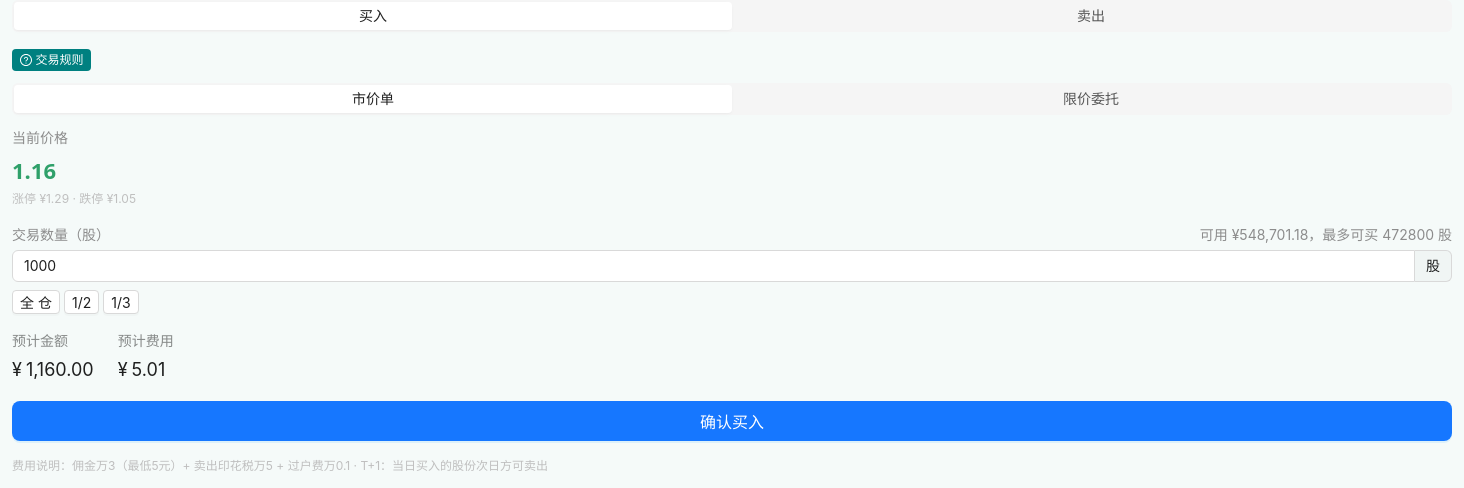
Test: F-31 资金不足提示（P0） › P0 服务端资金不足时展示需要/可用/差额，并纠正本地快照
Click the button with test id "trade-submit". click: (732, 421)
box: x1=12 y1=401 x2=1452 y2=441
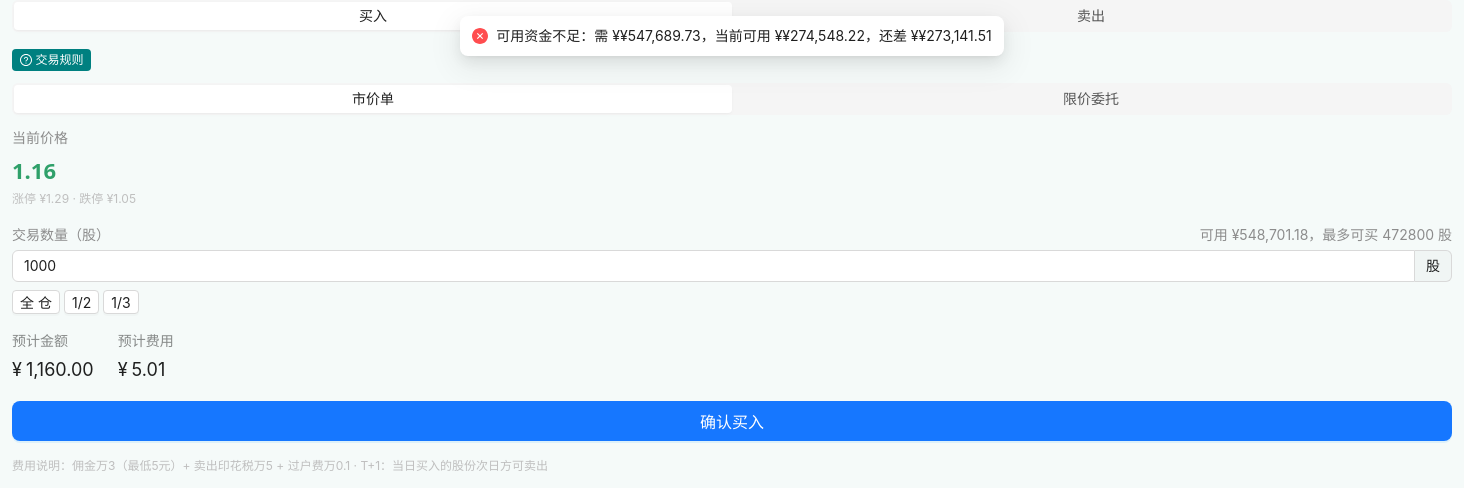
Expected: the text "可用资金不足：需 ¥¥547,689.73，当前可用 ¥¥274,548.22，还差 ¥¥273,141.51" is shown, x1=496 y1=25 x2=992 y2=47
